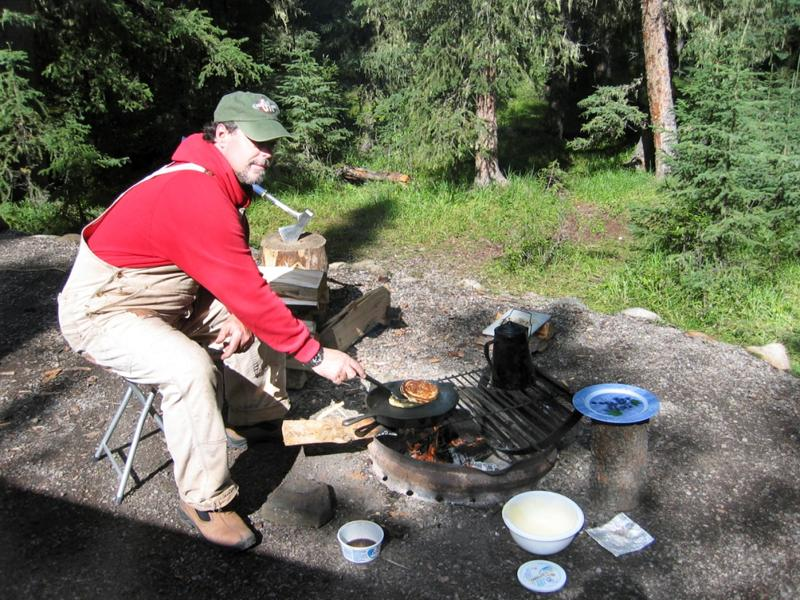person: (55, 92, 381, 557)
